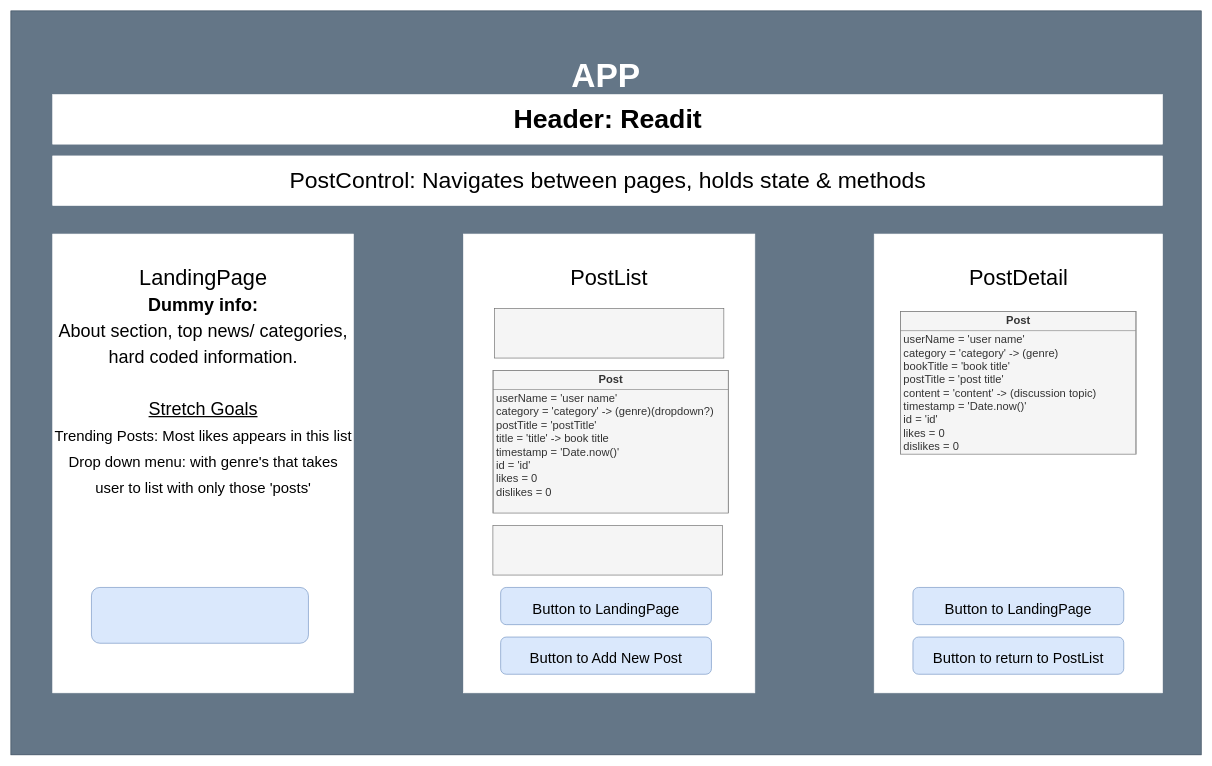
Image size: 1212x766. Some labels were removed from this diagram. Here are the shapes that lost their labels. From the top down, the centre of each, then its label:
(609,333): Post click on to see post detail:
(607,550): Post
(199,615): Button: Click to see all posts
